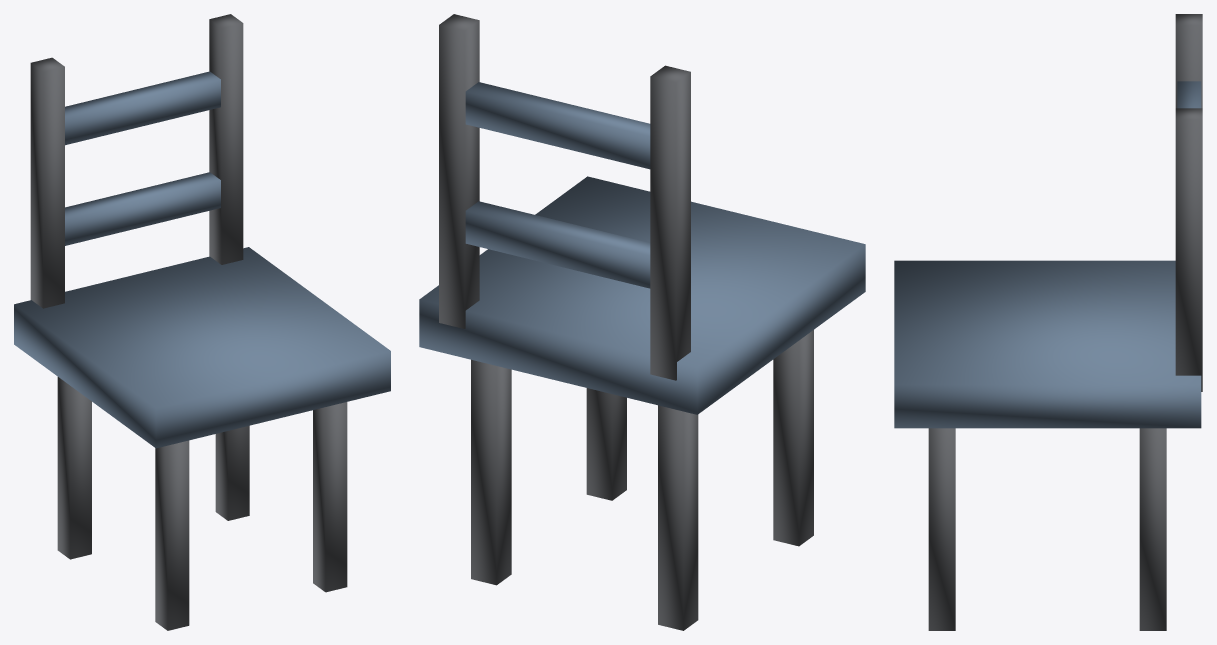
The model's file is courtroom_spectator_chair.glb.
3 renders of one model, left to right at view 1: azimuth 30°, elevation 25°; view 2: azimuth 150°, elevation 25°; view 3: azimuth 270°, elevation 25°, orthographic. The views are drawn at different scales.
Visible parts, largest first — view 1: world; view 2: world; view 3: world.
Part boxes in pixels (left/top/right/bottom): world: left=14, top=14, right=390, bottom=630; world: left=419, top=14, right=865, bottom=630; world: left=894, top=14, right=1202, bottom=630.
Size of the model in its own units: 0.488 by 0.949 by 0.5136.
